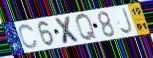6: (37, 20, 56, 47)
8: (97, 11, 115, 38)
C: (18, 23, 39, 50)
J: (120, 7, 134, 35)
Q: (75, 13, 99, 43)
X: (53, 16, 83, 46)
